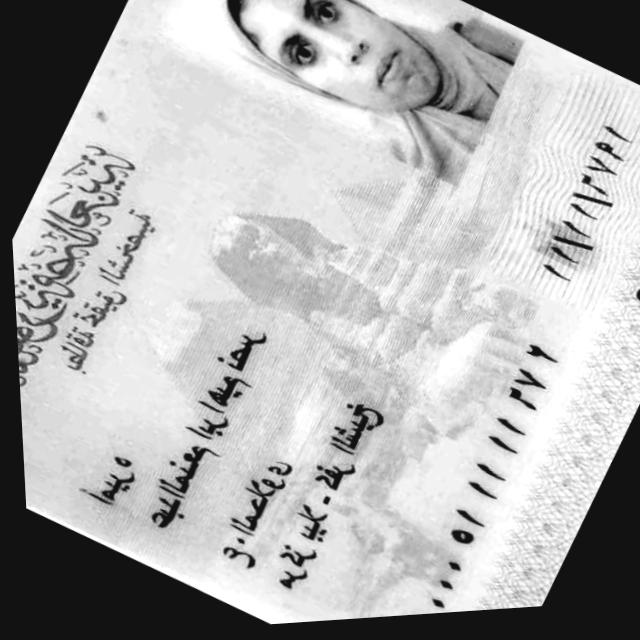id_card: (12, 0, 640, 624)
